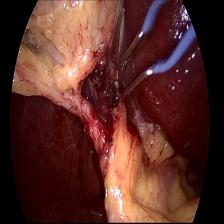Bipolar: (115, 2, 196, 116)
